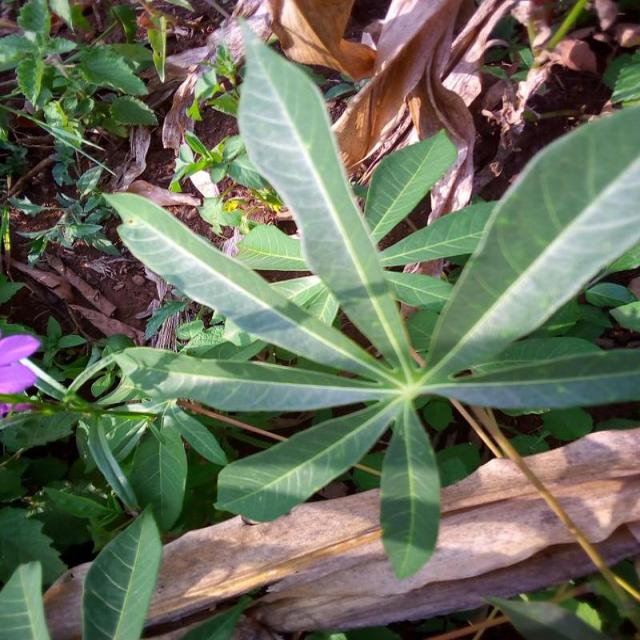cassava leaf: (94, 16, 638, 578), (234, 16, 416, 374), (420, 102, 638, 384)
